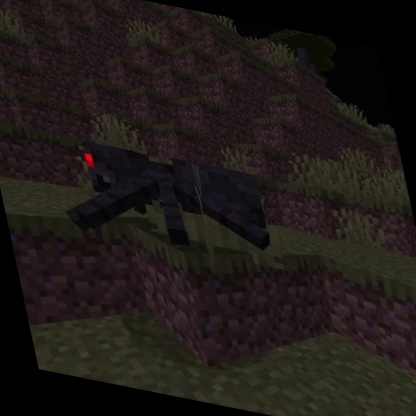spider: (46, 129, 283, 274)
